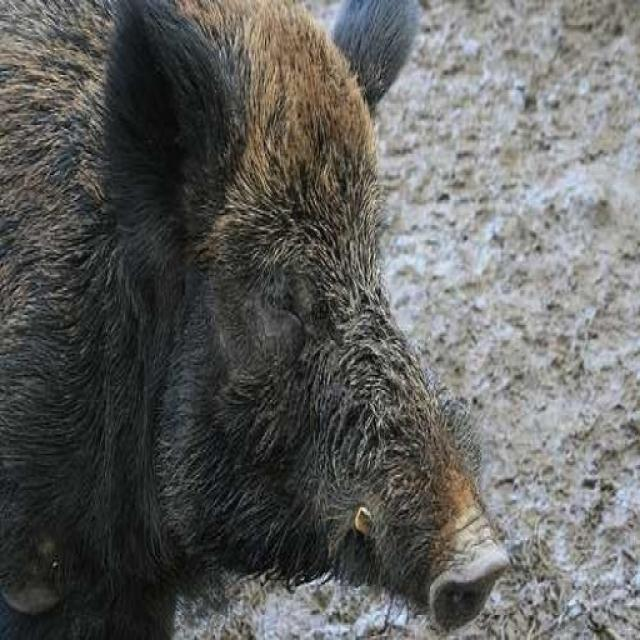pig: (4, 0, 552, 625)
